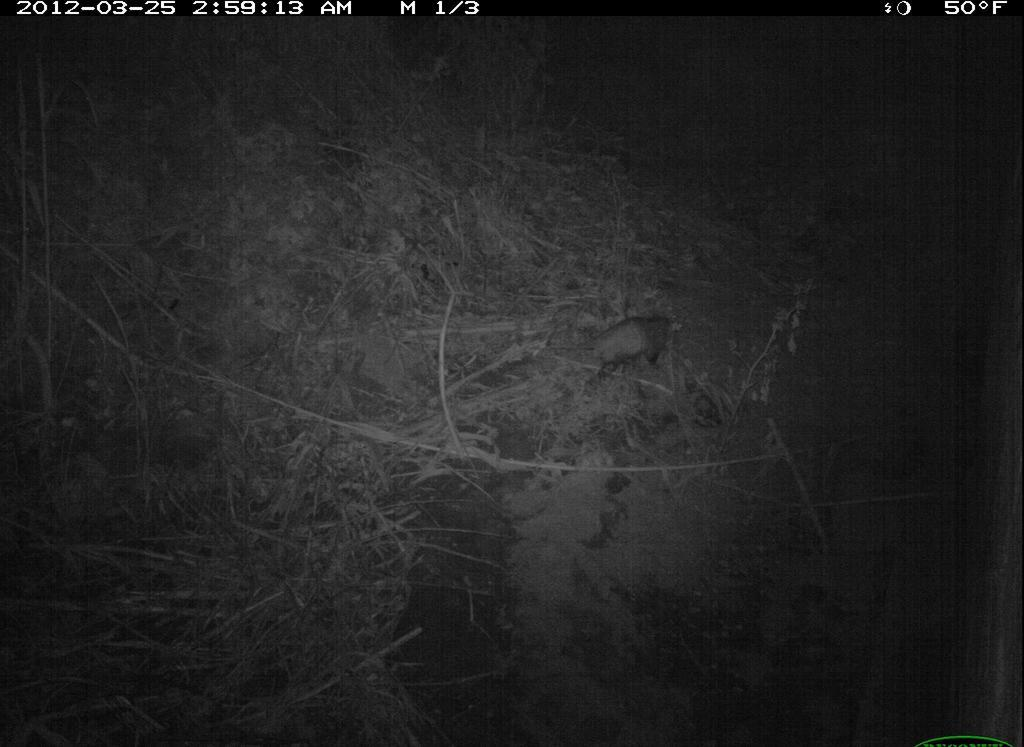opossum: (556, 305, 689, 390)
